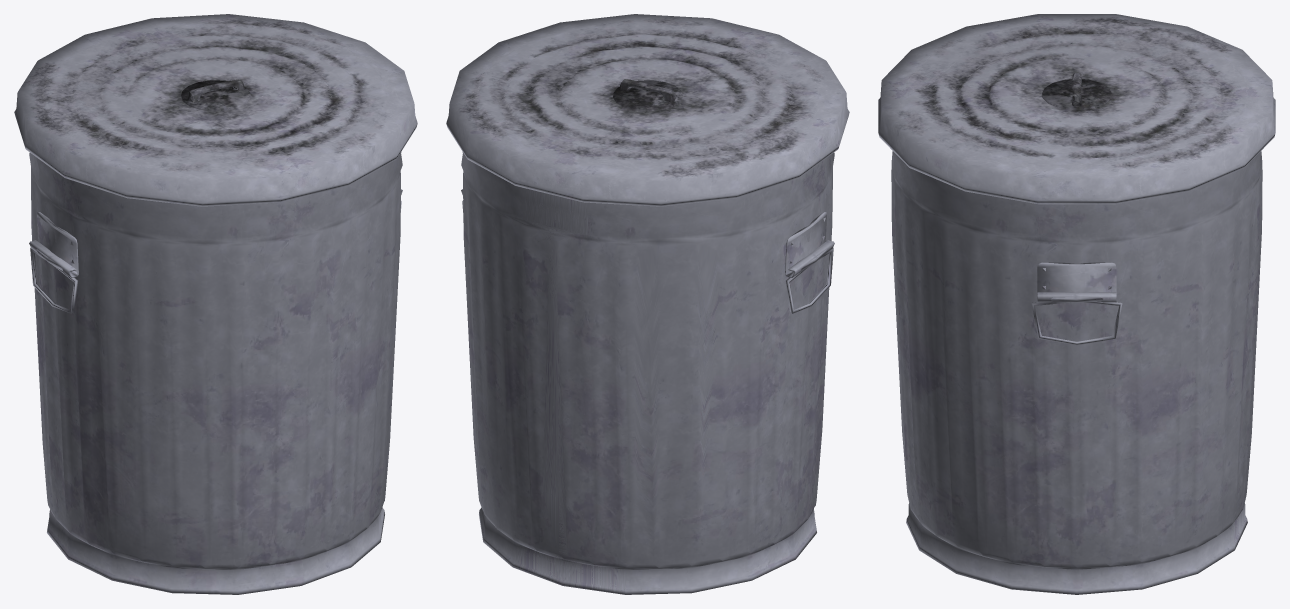
Rendered from trashcan.glb.
3 renders of one model, left to right at view 1: azimuth 30°, elevation 25°; view 2: azimuth 150°, elevation 25°; view 3: azimuth 270°, elevation 25°, orthographic.
Visible parts, largest first — view 1: Metal Trash Can with Lid; view 2: Metal Trash Can with Lid; view 3: Metal Trash Can with Lid.
Part boxes in pixels (<box>): Metal Trash Can with Lid: <box>14,14,417,594</box>; Metal Trash Can with Lid: <box>446,14,849,594</box>; Metal Trash Can with Lid: <box>878,14,1275,594</box>.
Bounding box in the file's own units: 0.4901 × 0.5998 × 0.4901.
Materials: 1 (1 with a texture image).
